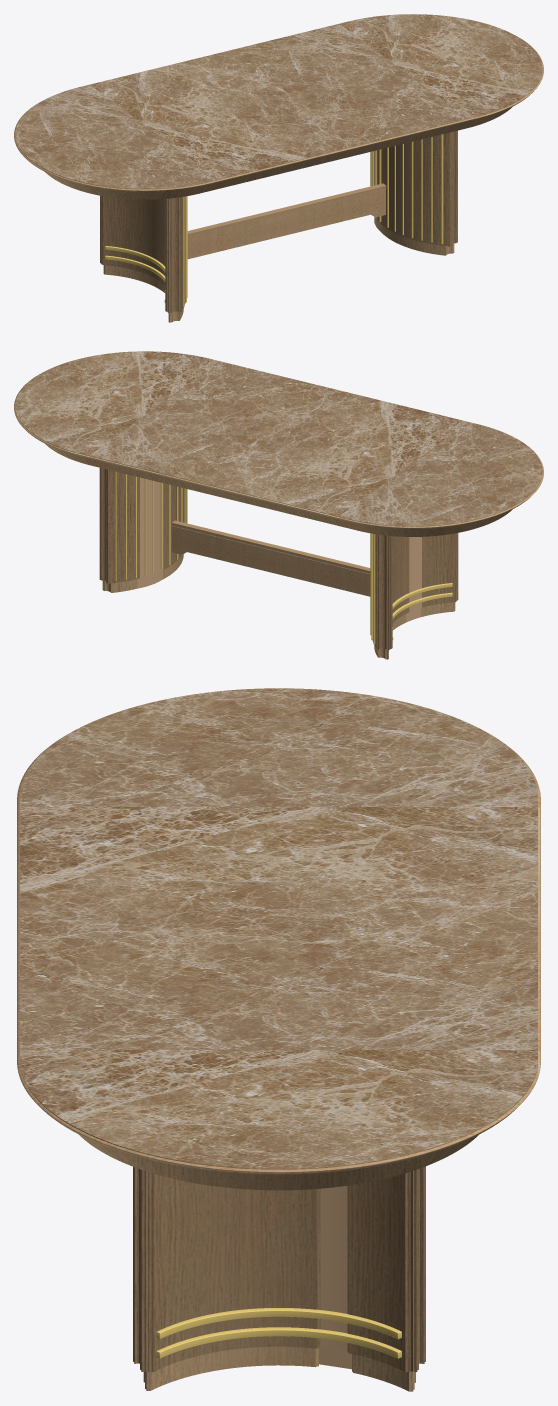
The picture shows the model from 3 angles, top to bottom: view 1: azimuth 30°, elevation 25°; view 2: azimuth 150°, elevation 25°; view 3: azimuth 270°, elevation 25°; orthographic projection. The views are drawn at different scales.
Visible parts, largest first — view 1: Layer:3D.MB.12, Layer:3D.MB.2, Layer:3D.MB.1, Box001, Layer:3D.MB.8, Box002; view 2: Layer:3D.MB.12, Layer:3D.MB.2, Layer:3D.MB.1, Box001, Layer:3D.MB.8, Line004, Box002, Line006; view 3: Layer:3D.MB.12, Layer:3D.MB.2, Layer:3D.MB.1, Layer:3D.MB.8, Line004.
Part boxes in pixels (x1,y1,x2,y2): Layer:3D.MB.12: [39, 24, 518, 178]; Layer:3D.MB.2: [14, 14, 543, 322]; Layer:3D.MB.1: [100, 130, 457, 313]; Box001: [187, 188, 385, 259]; Layer:3D.MB.8: [105, 134, 443, 307]; Box002: [187, 183, 386, 236]; Layer:3D.MB.12: [39, 361, 518, 516]; Layer:3D.MB.2: [14, 351, 543, 659]; Layer:3D.MB.1: [99, 468, 458, 650]; Box001: [171, 525, 370, 596]; Layer:3D.MB.8: [115, 471, 452, 644]; Line004: [140, 477, 163, 578]; Box002: [171, 520, 370, 573]; Line006: [409, 537, 421, 612]; Layer:3D.MB.12: [67, 708, 490, 1148]; Layer:3D.MB.2: [17, 688, 540, 1391]; Layer:3D.MB.1: [133, 1166, 425, 1372]; Layer:3D.MB.8: [156, 1308, 401, 1358]; Line004: [321, 1185, 347, 1350].
Size of the model in its own units: 2.4 by 0.75 by 1.1.
5 materials, 4 textured.
